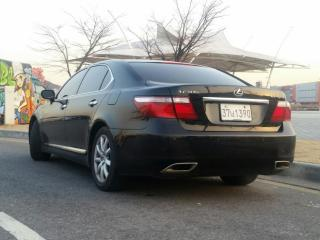0: (247, 109, 251, 119)
1: (234, 108, 239, 119)
3: (222, 108, 227, 119), (238, 109, 243, 119)
7: (226, 108, 231, 118)
9: (242, 109, 247, 119)
plate: (215, 99, 257, 126)
너: (230, 109, 235, 118)
